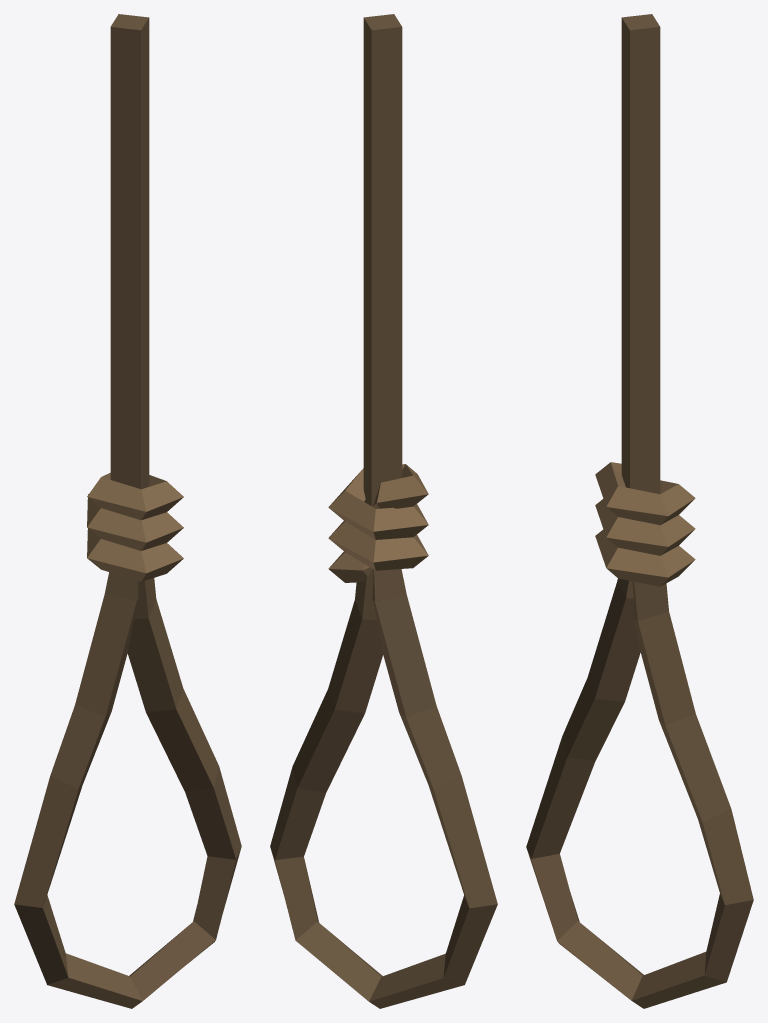
File: crypt_noose.gltf
The picture shows the model from 3 angles, left to right: view 1: azimuth 30°, elevation 25°; view 2: azimuth 150°, elevation 25°; view 3: azimuth 330°, elevation 25°; orthographic projection.
Visible parts, largest first — view 1: crypt_noose; view 2: crypt_noose; view 3: crypt_noose.
Boxes of the visible parts, x1,y1,x2,y2 form: crypt_noose: (14,14,241,1008); crypt_noose: (270,14,497,1008); crypt_noose: (526,14,753,1008).
Bounding box in the file's own units: 0.3116 × 1.29 × 0.1216.
Materials: 1 (1 with a texture image).
